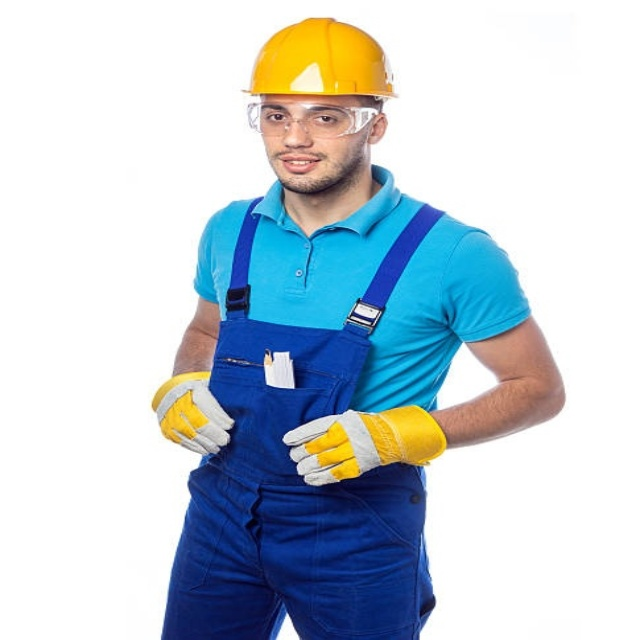Gafas: (245, 99, 384, 138)
Guantes: (288, 404, 445, 485), (151, 372, 234, 454)
Sin_mascara: (269, 145, 333, 179)
